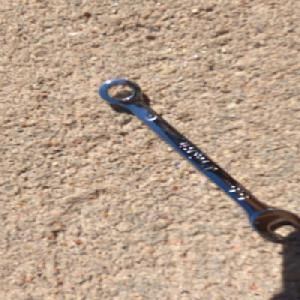Wrench: (97, 77, 300, 241)
